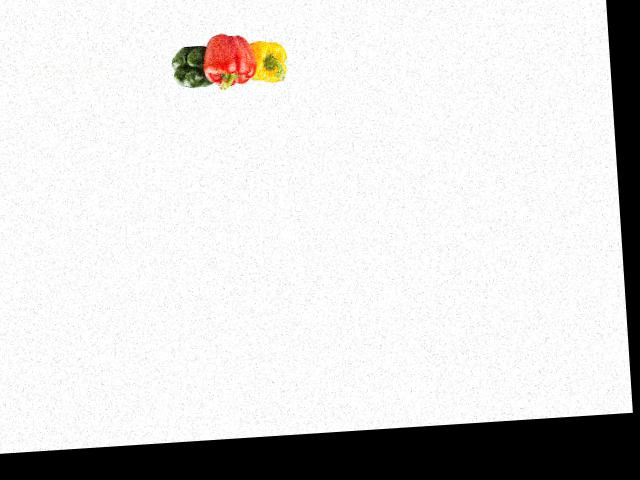bell_pepper: (245, 31, 291, 88)
